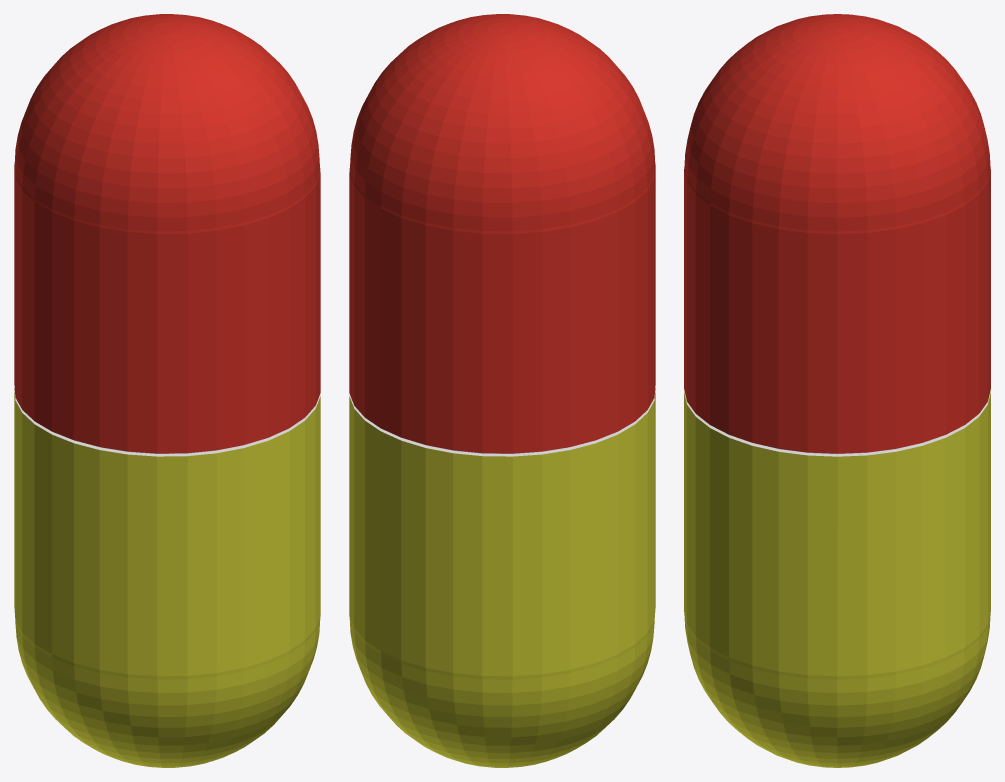
The model's file is 02. Pil.fbx.
3 renders of one model, left to right at view 1: azimuth 30°, elevation 25°; view 2: azimuth 150°, elevation 25°; view 3: azimuth 270°, elevation 25°, orthographic.
Visible parts, largest first — view 1: Sphere; view 2: Sphere; view 3: Sphere.
Part boxes in pixels (bbox=[...]): Sphere: bbox=[14, 14, 320, 767]; Sphere: bbox=[349, 14, 655, 767]; Sphere: bbox=[684, 14, 990, 767].
Bounding box in the file's own units: 200 × 522 × 200.
